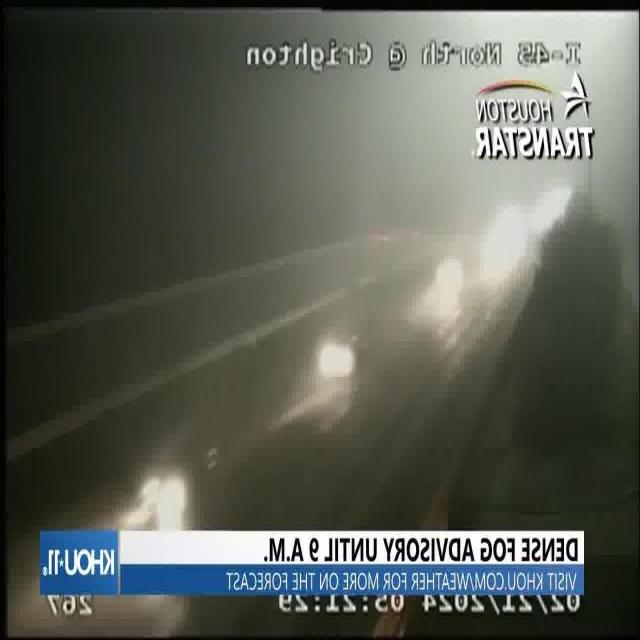Car: (130, 442, 223, 529), (316, 329, 363, 381)
